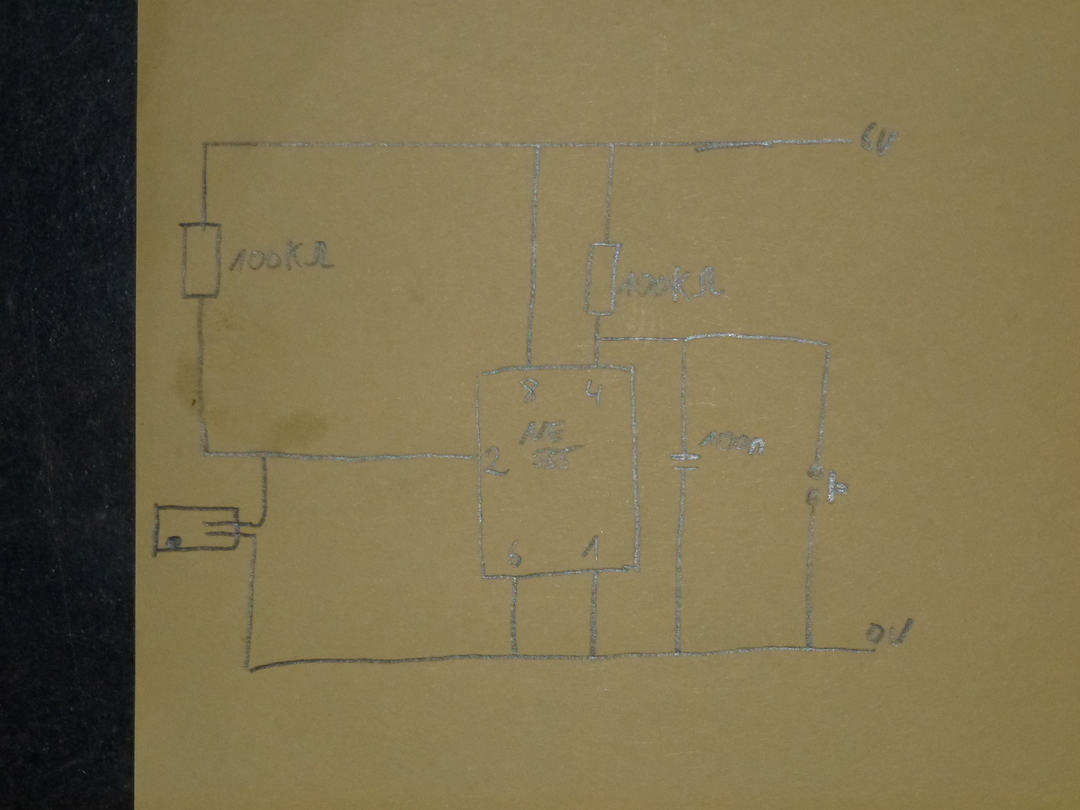capacitor.unpolarized: (669, 451, 703, 475)
integrated_cricuit.ne555: (469, 359, 644, 584)
junction: (506, 649, 524, 664), (239, 662, 257, 677), (258, 448, 272, 464), (585, 650, 600, 664), (821, 338, 834, 353), (605, 138, 620, 151), (802, 643, 817, 655), (670, 648, 685, 660), (200, 447, 213, 460), (591, 332, 604, 345), (532, 139, 545, 152), (679, 334, 691, 346), (199, 140, 212, 151), (252, 519, 264, 529), (250, 530, 260, 541)
resistor: (177, 220, 223, 303), (583, 242, 621, 317)
switch: (152, 501, 242, 559), (804, 463, 850, 508)
terminal: (845, 135, 857, 148), (869, 646, 881, 657)
text: (618, 266, 725, 303), (228, 240, 334, 273), (518, 419, 584, 471), (697, 429, 766, 457), (864, 617, 914, 647), (860, 121, 898, 158), (484, 445, 510, 477), (579, 534, 602, 563), (520, 376, 540, 404), (584, 379, 603, 405), (507, 538, 523, 568)
